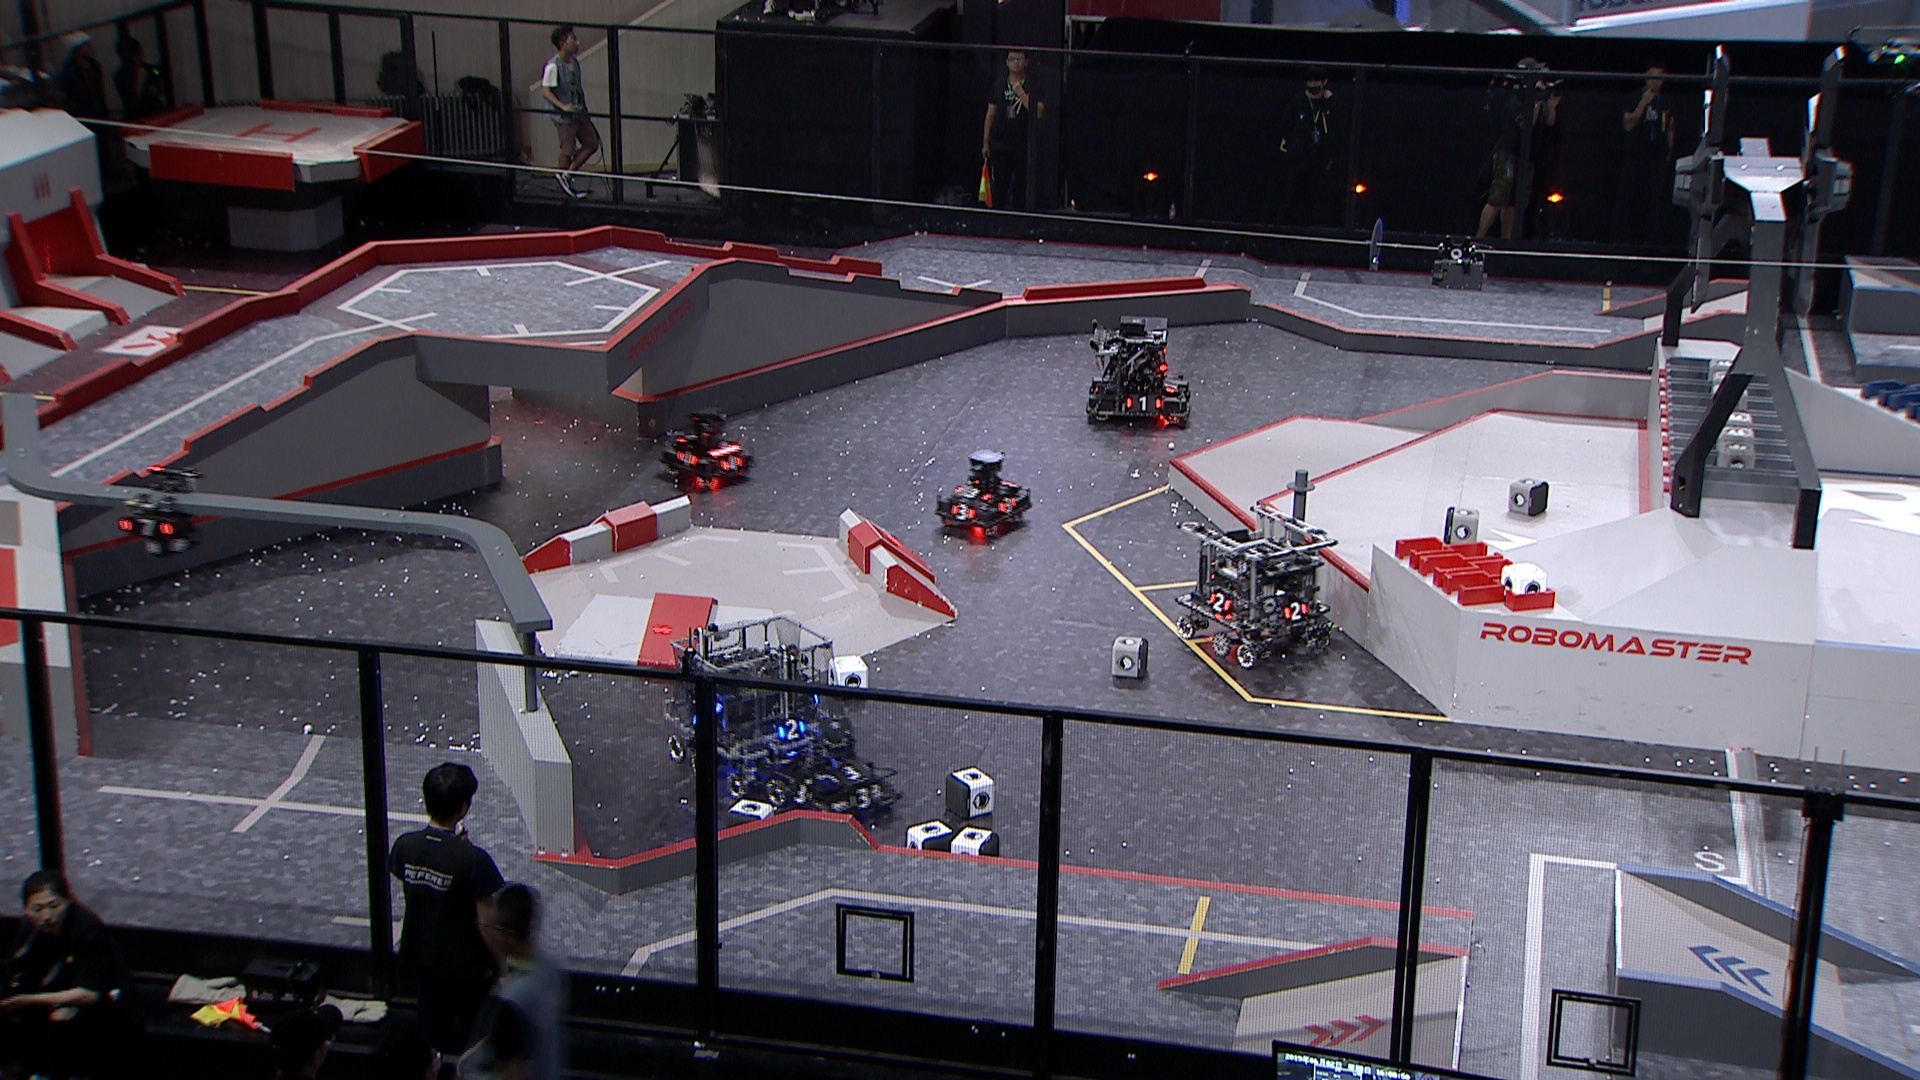armor: (116, 516, 173, 541), (847, 787, 884, 811), (828, 765, 869, 783), (775, 717, 808, 740), (1280, 597, 1311, 621), (955, 484, 993, 502), (1124, 394, 1162, 413), (790, 783, 818, 807), (1209, 589, 1233, 616), (949, 502, 977, 522), (717, 454, 745, 473), (996, 495, 1019, 517), (674, 450, 700, 465), (1160, 380, 1178, 396), (674, 433, 698, 443)
car: (661, 613, 841, 798), (1174, 504, 1340, 673), (764, 717, 903, 822), (1084, 316, 1193, 429), (935, 452, 1035, 541), (659, 404, 754, 491)
watcher: (111, 462, 204, 556)
